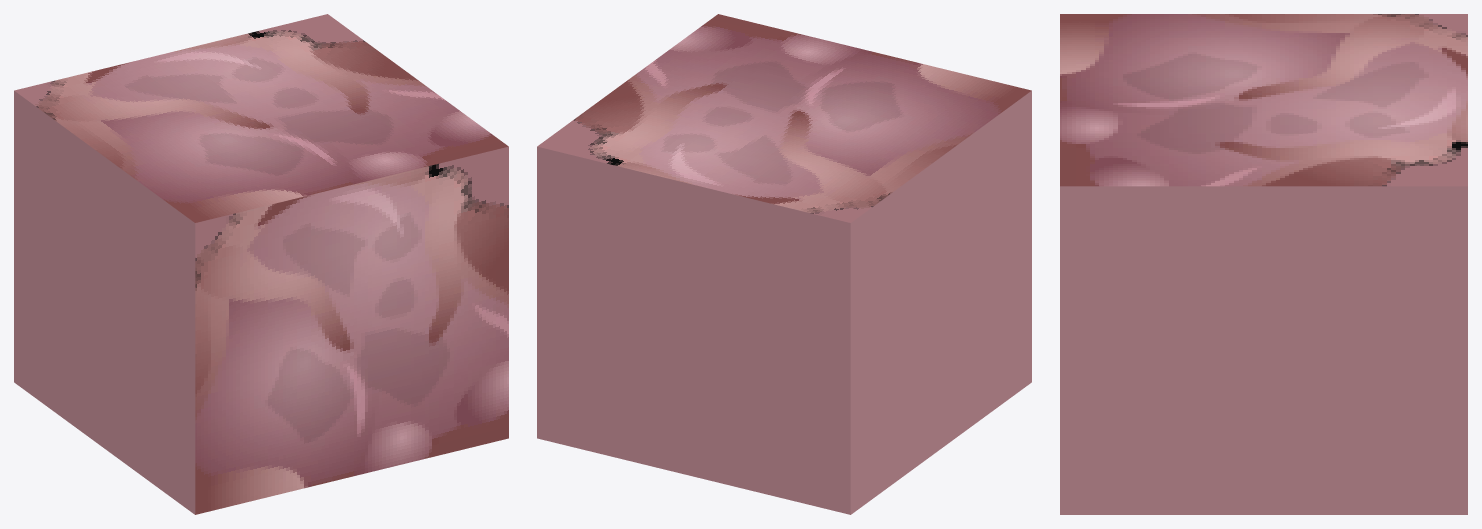
File: Building_FleshSack.glb
The picture shows the model from 3 angles, left to right: view 1: azimuth 30°, elevation 25°; view 2: azimuth 150°, elevation 25°; view 3: azimuth 270°, elevation 25°; orthographic projection. The views are drawn at different scales.
Parts seen in each view (by area): view 1: FleshSack; view 2: FleshSack; view 3: FleshSack.
Boxes of the visible parts, x1,y1,x2,y2 form: FleshSack: (14, 14, 508, 514); FleshSack: (537, 14, 1031, 514); FleshSack: (1060, 14, 1467, 514).
Size of the model in its own units: 0.9 by 0.8 by 0.9.
Materials: 1 (1 with a texture image).
